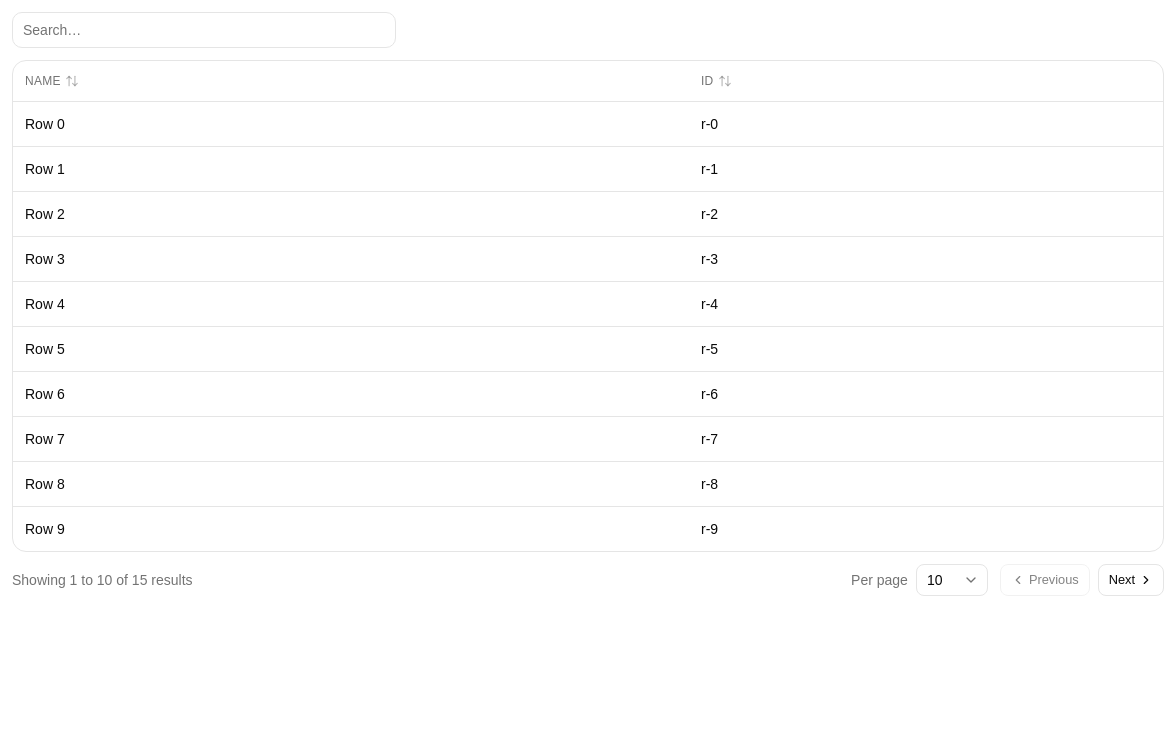
Test: DataTable › paginates when data exceeds the page size
Expected: the text "Showing 1 to 10 of 15 results" is shown, [12,570,193,590]
Expected: the text "Row 0" is shown, [13,101,689,146]
Click the button "Next".
click(1131, 580)  # box [1098,564,1164,596]
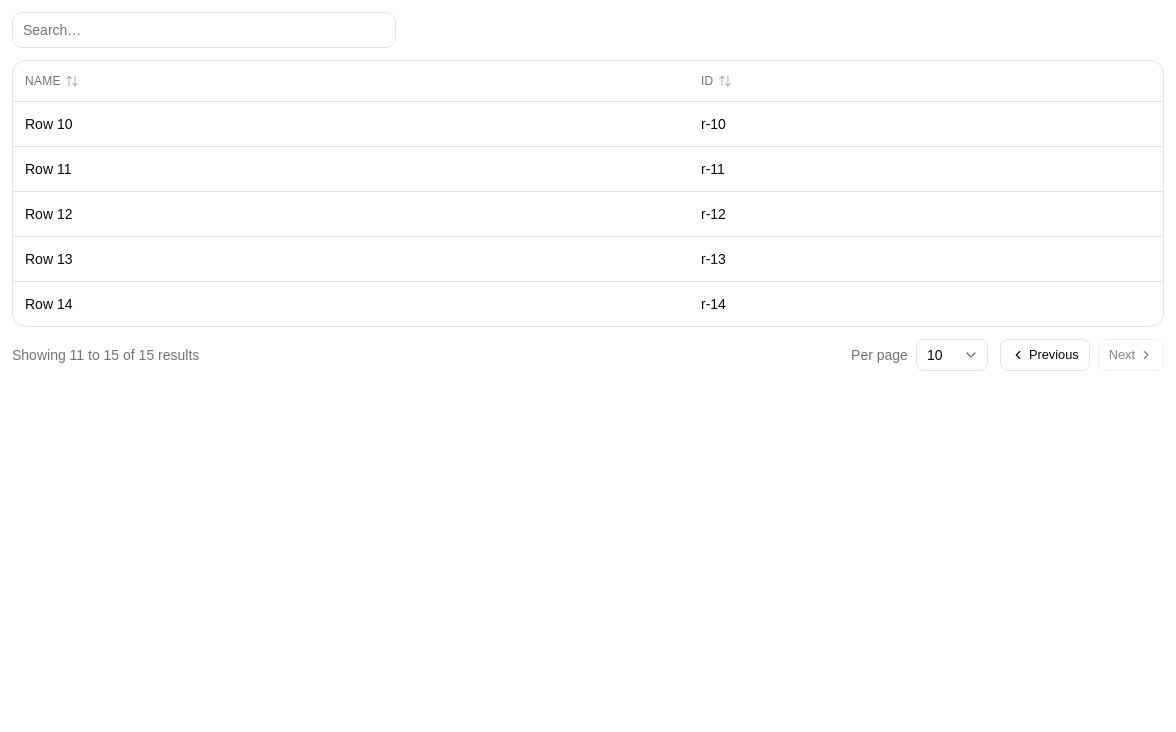
Expected: the text "Showing 11 to 15 of 15 results" is shown, [12,344,199,364]
Expected: the text "Row 10" is shown, [13,101,689,146]
Expected: the text "Row 0" is gone
